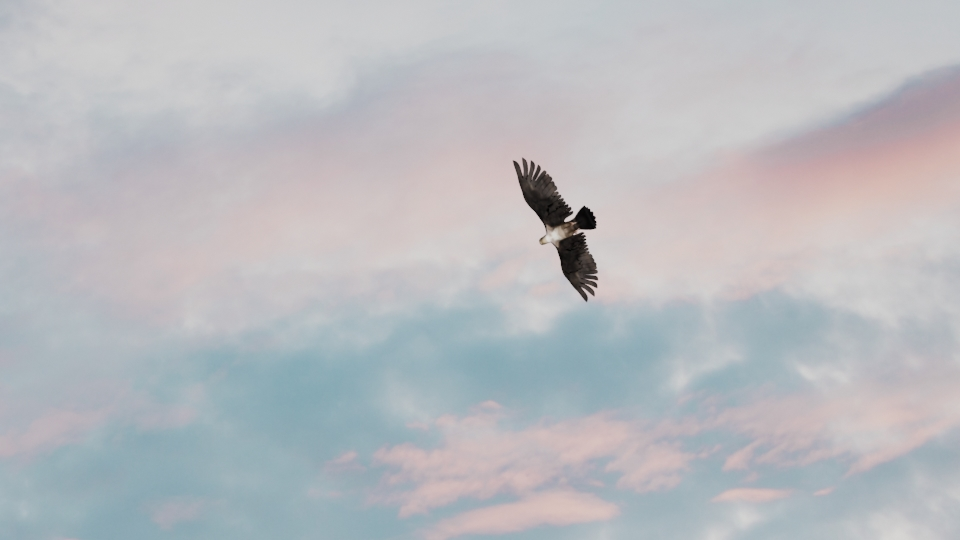bird: (506, 153, 601, 299)
